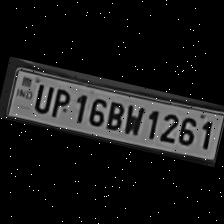1: (195, 116, 218, 152), (67, 89, 90, 124), (140, 105, 162, 141)
2: (156, 109, 180, 145)
6: (173, 112, 199, 148), (83, 93, 108, 128)
B: (102, 96, 127, 132)
P: (46, 84, 74, 120)
U: (29, 80, 54, 114)
W: (120, 100, 146, 138)
